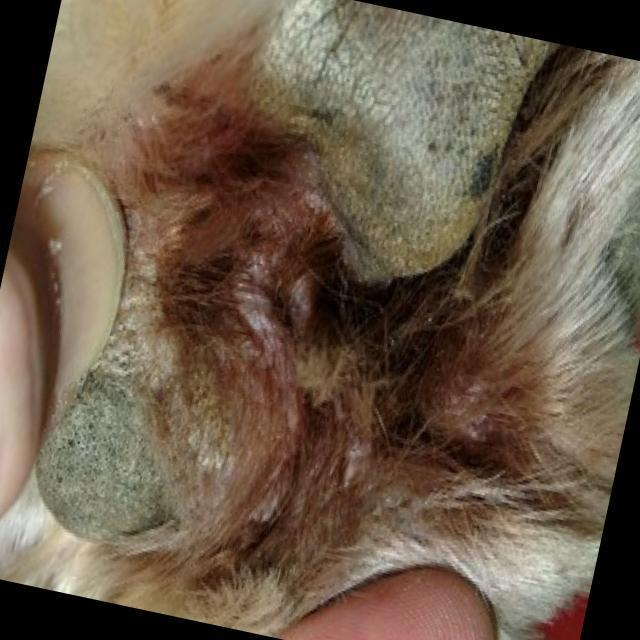allergic dermatitis: (202, 155, 316, 397)
